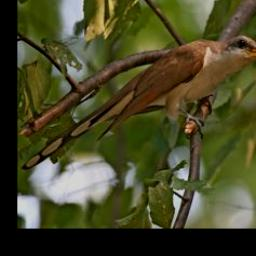Cuckoo: (21, 33, 256, 171)
